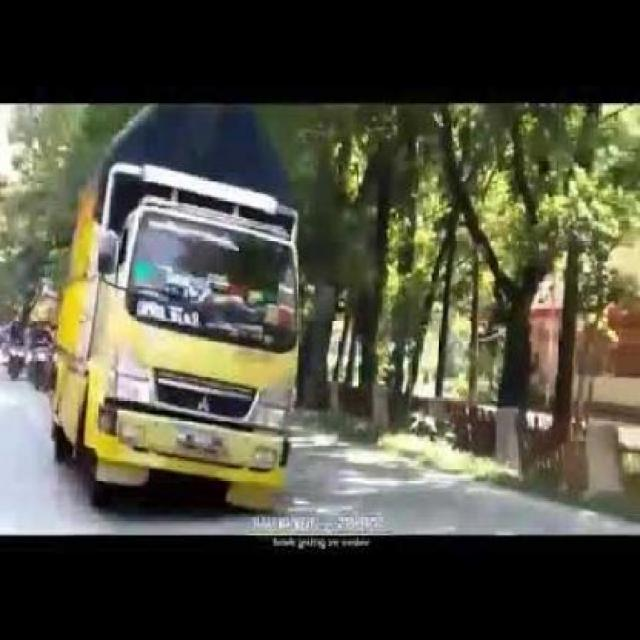truck: (47, 157, 336, 510)
